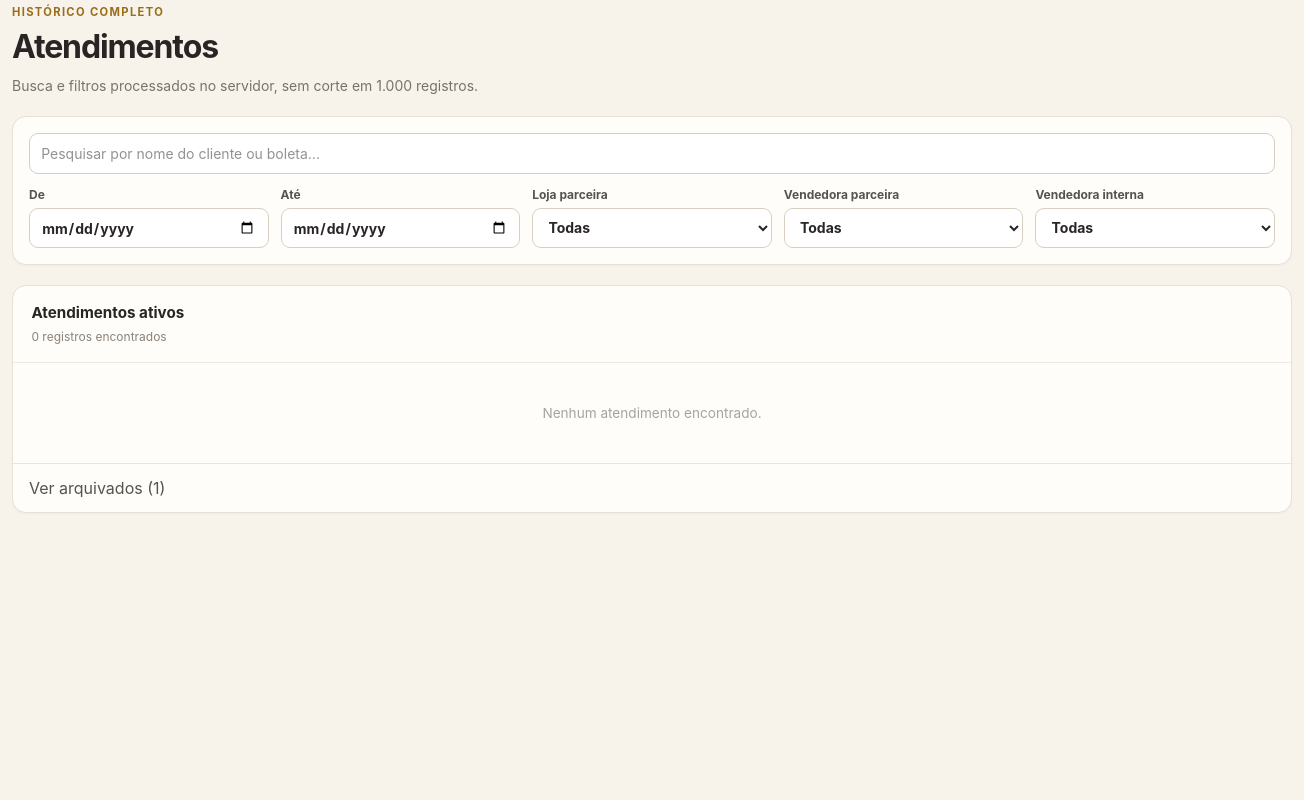
Test: TabAtendimentos (PDV) › botão Ver arquivados revela os itens arquivados
The image size is (1304, 800).
Click the button "Ver arquivados (1)" at coordinates (97, 488), box [13, 464, 1291, 512]
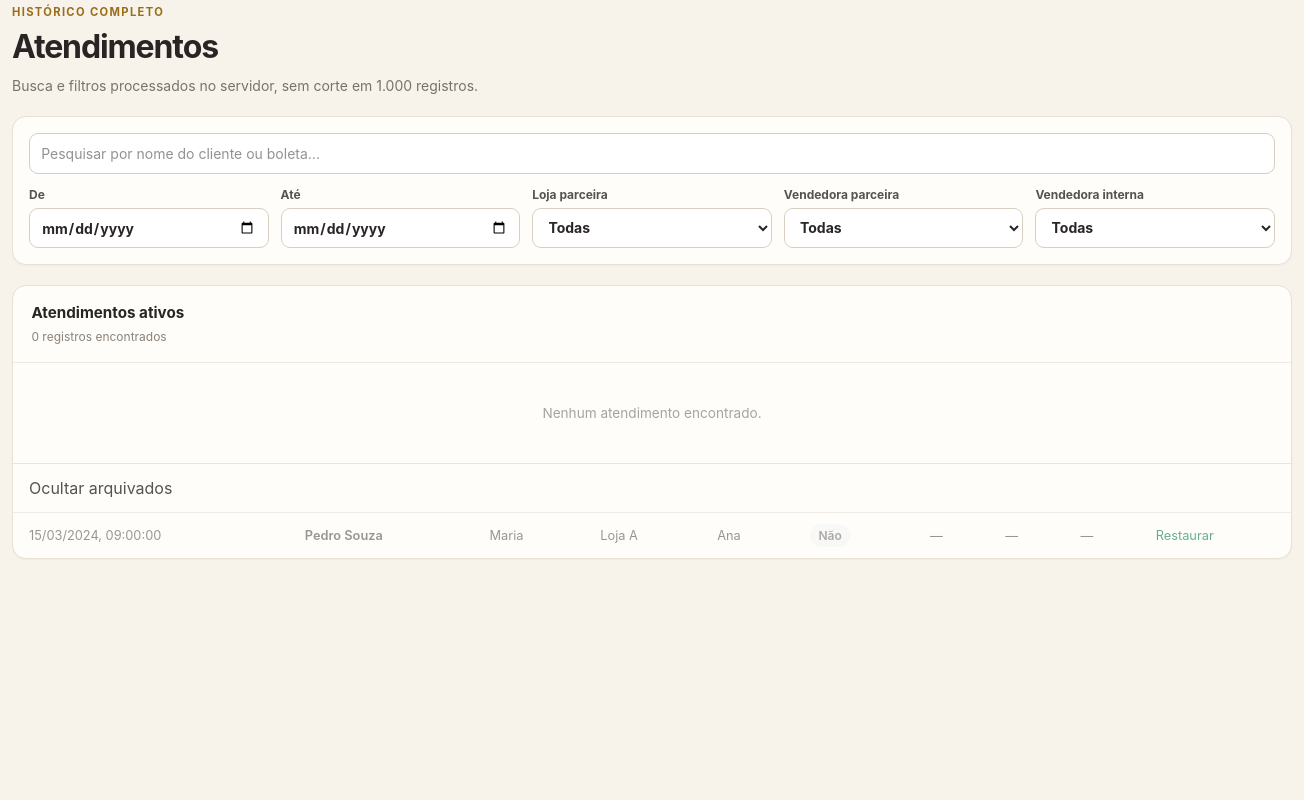
Expected: the text "Pedro Souza" is shown, [289, 512, 474, 558]
Expected: the button "Restaurar" is shown, [1156, 526, 1214, 545]
